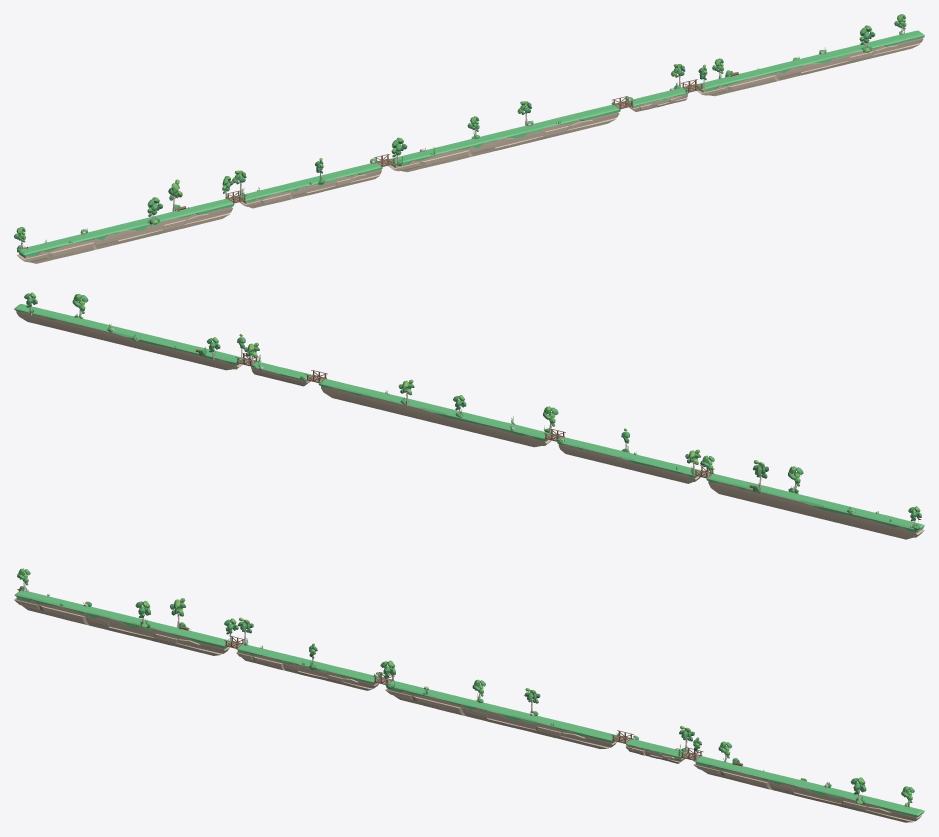
The model's file is Park_Map_lvl_1_LANG (2).fbx.
The picture shows the model from 3 angles, top to bottom: view 1: azimuth 30°, elevation 25°; view 2: azimuth 150°, elevation 25°; view 3: azimuth 330°, elevation 25°; orthographic projection.
Parts seen in each view (by area): view 1: polySurface701; view 2: polySurface701; view 3: polySurface701.
Part boxes in pixels (x1,y1,x2,y2): polySurface701: (14, 14, 924, 263); polySurface701: (14, 292, 924, 539); polySurface701: (14, 568, 924, 822).
Size of the model in its own units: 559 by 25.76 by 14.35.
